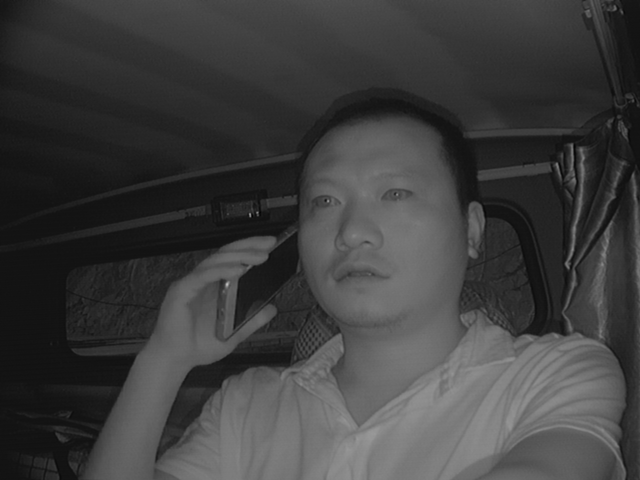hand: (163, 229, 272, 365)
